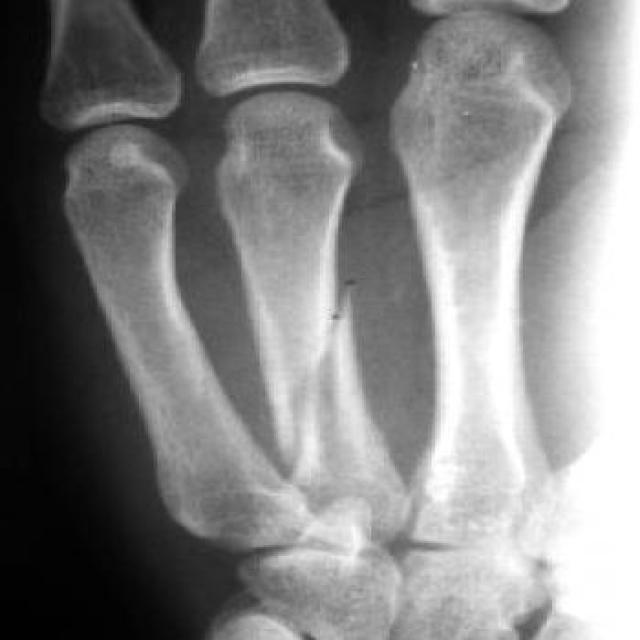Fracture: (271, 264, 382, 488)
